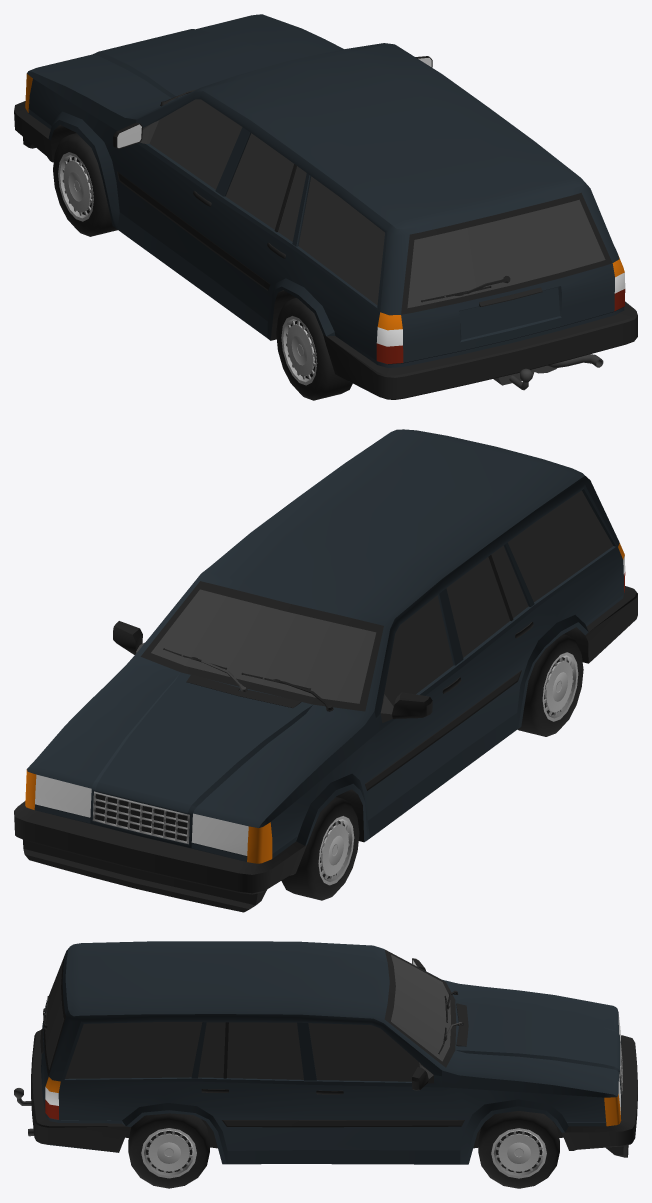
The model's file is m8_wagon_sloped_black.glb.
3 views of the same model, one above another, from view 1: azimuth 30°, elevation 25°; view 2: azimuth 150°, elevation 25°; view 3: azimuth 270°, elevation 25° (orthographic). The views are drawn at different scales.
Visible parts, largest first — view 1: Body, Wheel_RL, Wheel_FL, Interior; view 2: Body, Wheel_FL, Wheel_RL; view 3: Body, Wheel_FR, Wheel_RR, Interior.
Boxes of the visible parts, box(x1,y1,x2,y2) form: Body: box(14, 14, 637, 399); Wheel_RL: box(276, 298, 352, 400); Wheel_FL: box(53, 133, 117, 236); Interior: box(160, 89, 603, 390); Body: box(14, 429, 637, 912); Wheel_FL: box(281, 797, 359, 900); Wheel_RL: box(517, 634, 583, 736); Body: box(31, 941, 637, 1164); Wheel_FR: box(478, 1111, 559, 1188); Wheel_RR: box(128, 1113, 209, 1188); Interior: box(14, 990, 462, 1136).
Bounding box in the file's own units: 2.13 × 1.36 × 4.64.
Materials: 1 (1 with a texture image).
